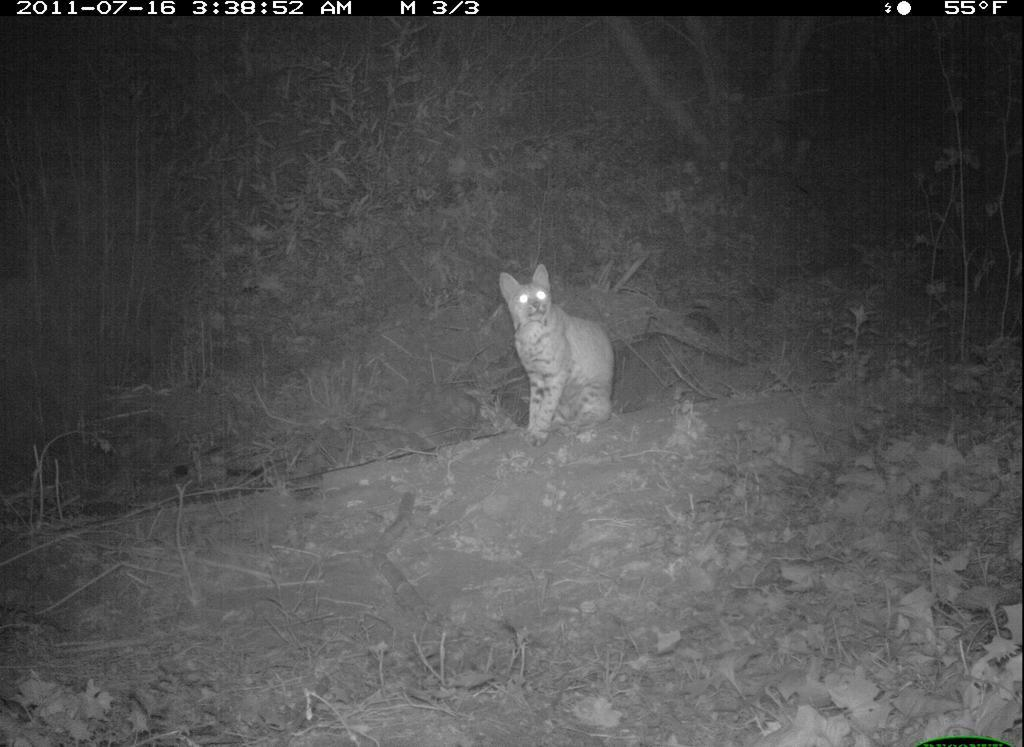bobcat: (478, 254, 630, 465)
